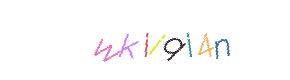4: (158, 0, 238, 80)
I: (104, 0, 184, 80), (116, 0, 196, 80), (155, 0, 235, 80)
K: (82, 0, 162, 80)
N: (164, 0, 244, 80)
Q: (133, 0, 213, 80)
W: (78, 0, 158, 80)
